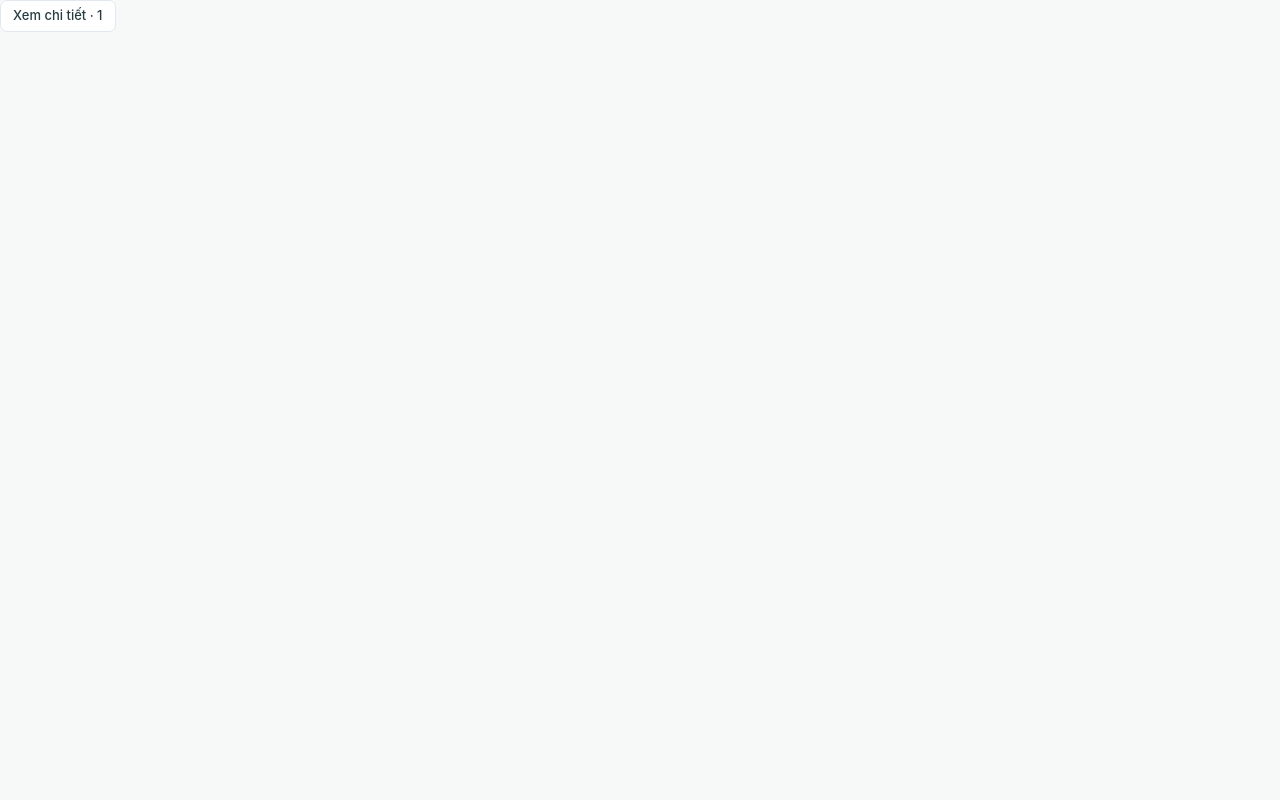
Test: JobActivity › adds a third tab with the live error list, count on the button, actions and empty state
The image size is (1280, 800).
Later steps or results of the test are not shown.
Click the button "Xem chi tiết · 1" at x=58, y=16, box [0, 0, 116, 32]
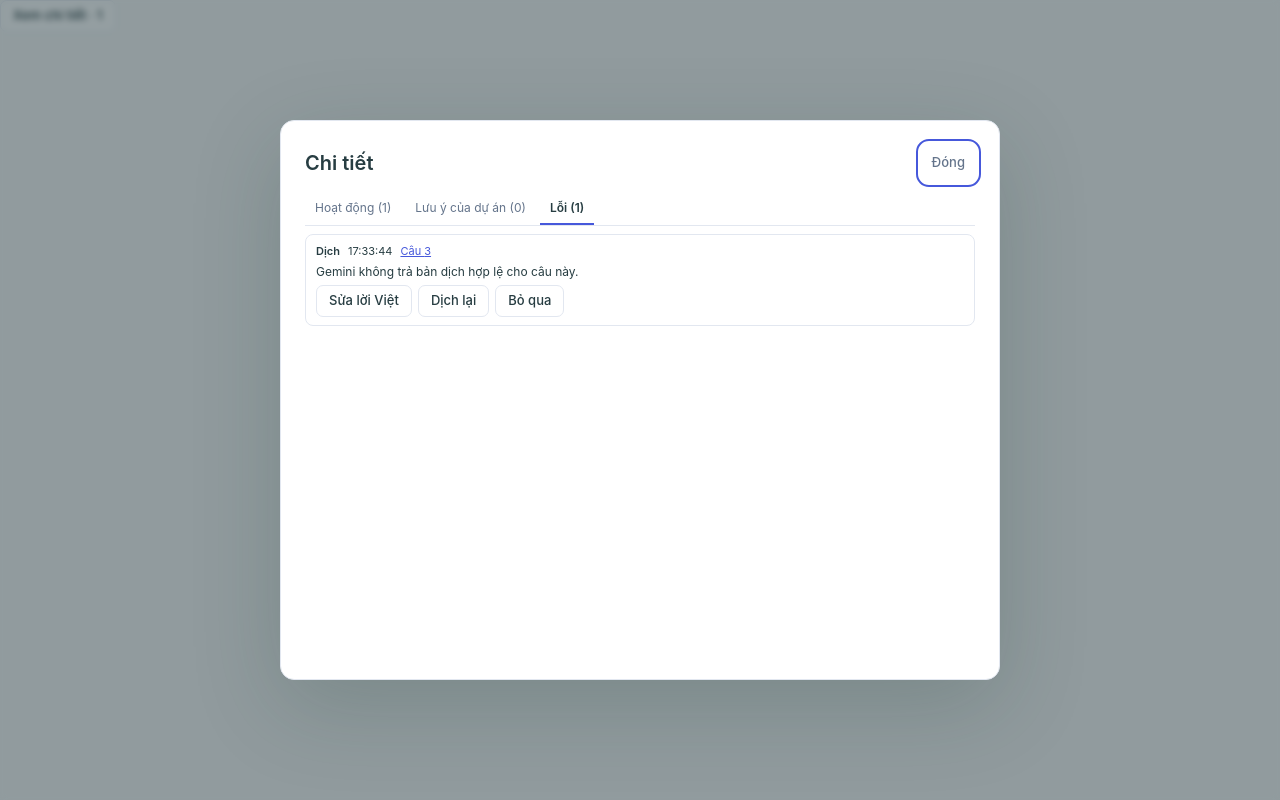
Expected: the text "Gemini không trả bản dịch hợp lệ cho câu này." is shown, [316, 264, 578, 279]
Click the button "Dịch lại" at x=454, y=301, box [418, 285, 489, 317]
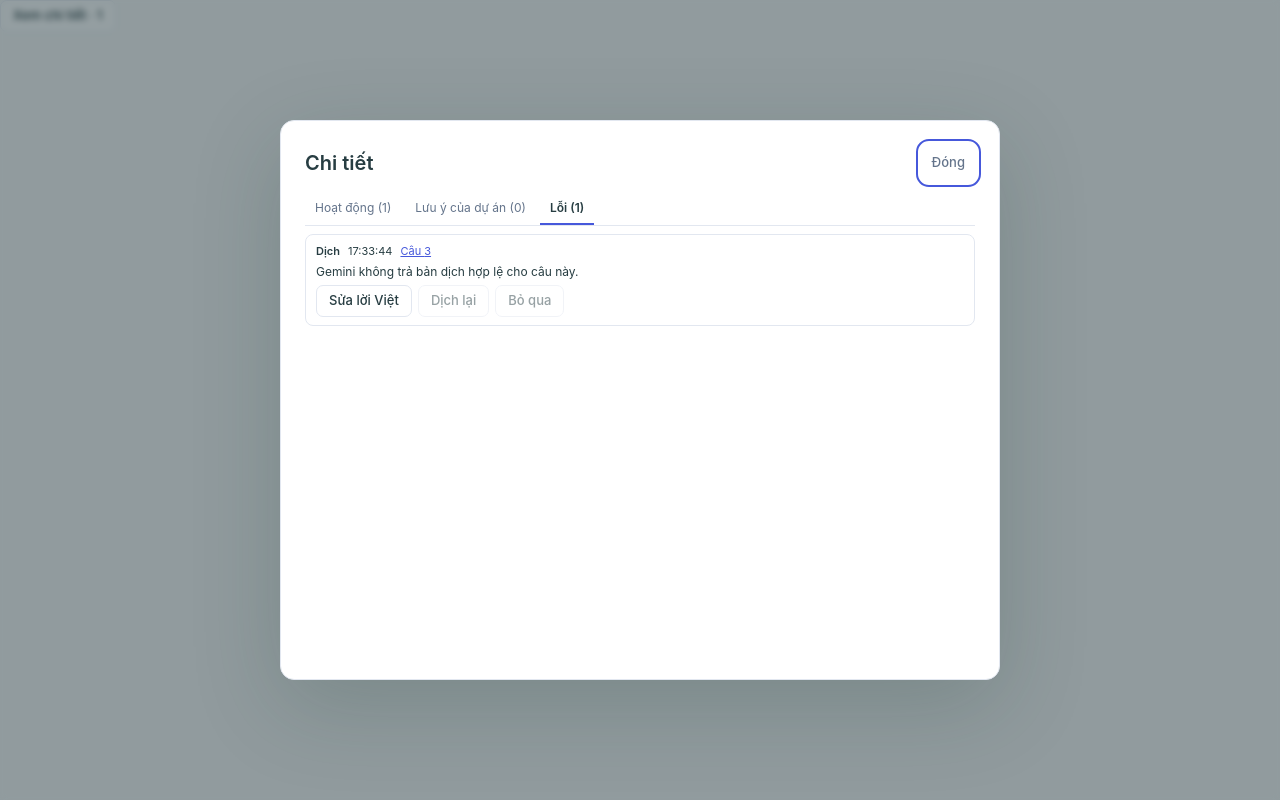
Expected: the button "Bỏ qua" is shown, [495, 285, 564, 317]
Expected: the button "Sửa lời Việt" is shown, [316, 285, 412, 317]
Click the button "Câu 3" at x=416, y=251, box [400, 242, 431, 259]
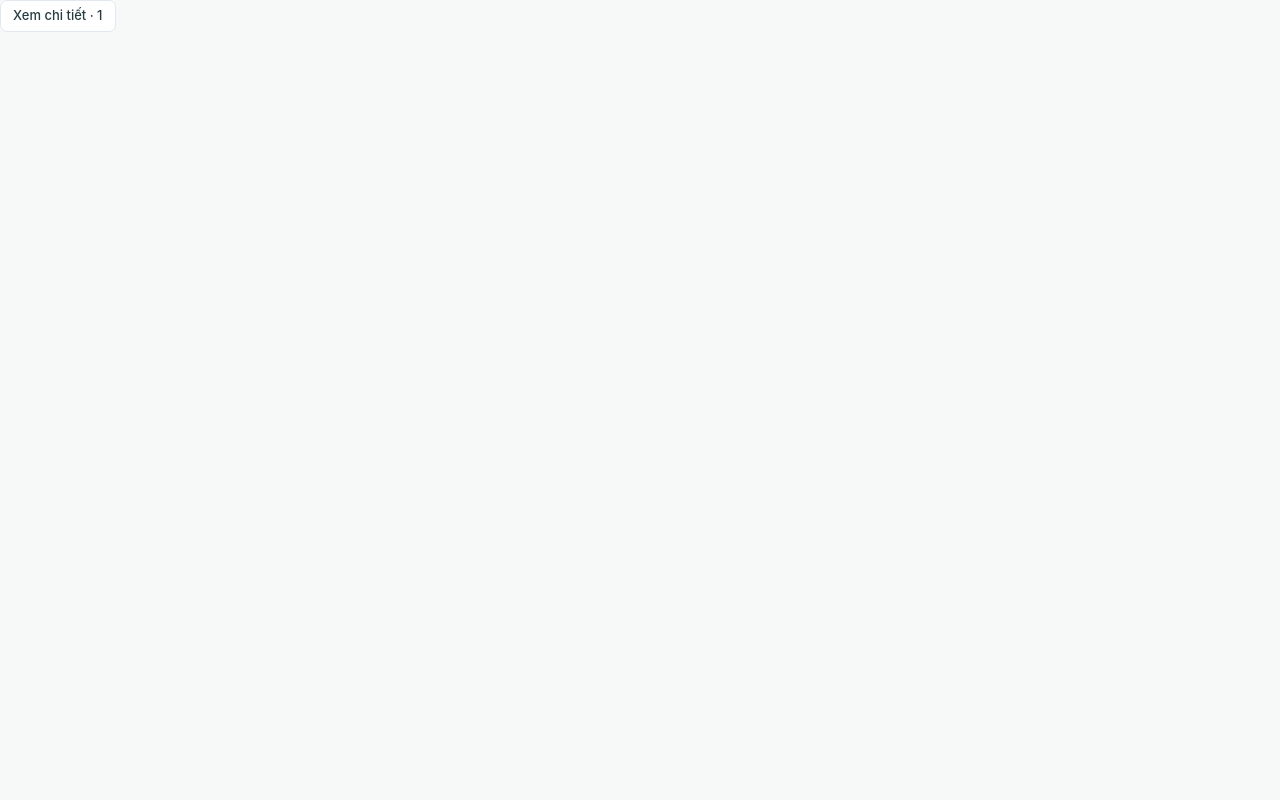
Expected: the dialog is gone
